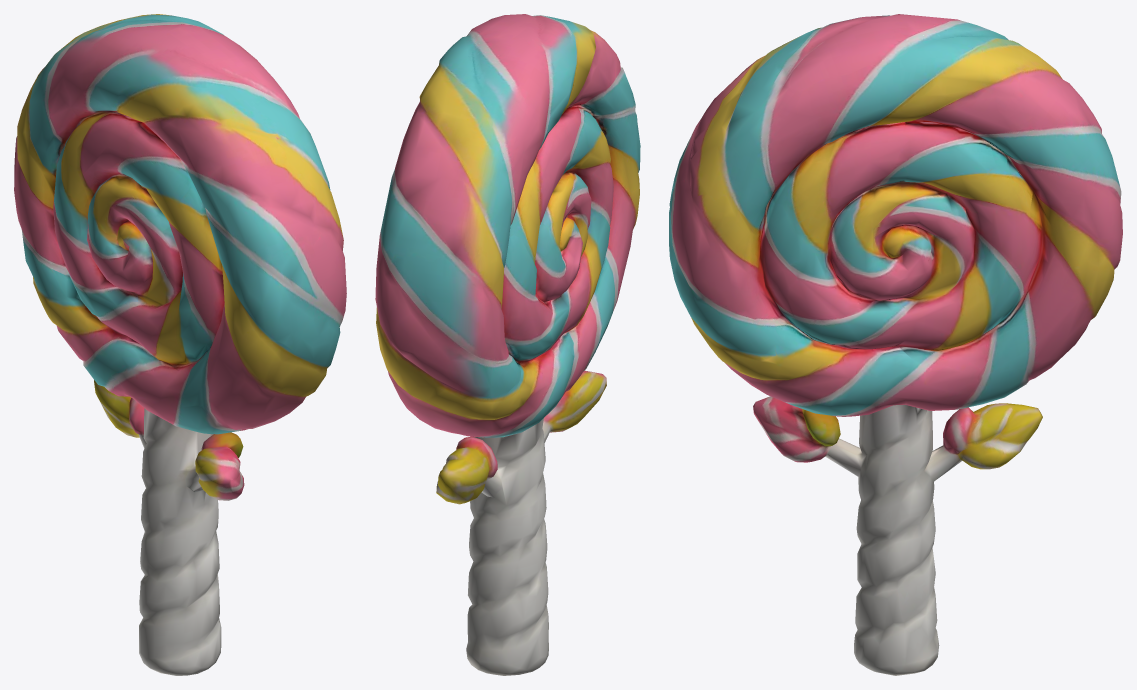
Rendered from deco_lolly.glb.
3 renders of one model, left to right at view 1: azimuth 30°, elevation 25°; view 2: azimuth 150°, elevation 25°; view 3: azimuth 270°, elevation 25°, orthographic.
Visible parts, largest first — view 1: tripo_node_f221a70a-a6c3-42f4-a626-4c5e6b1ae5af; view 2: tripo_node_f221a70a-a6c3-42f4-a626-4c5e6b1ae5af; view 3: tripo_node_f221a70a-a6c3-42f4-a626-4c5e6b1ae5af.
Boxes of the visible parts, x1,y1,x2,y2 form: tripo_node_f221a70a-a6c3-42f4-a626-4c5e6b1ae5af: (14,14,346,675); tripo_node_f221a70a-a6c3-42f4-a626-4c5e6b1ae5af: (375,14,640,675); tripo_node_f221a70a-a6c3-42f4-a626-4c5e6b1ae5af: (669,14,1122,675).
Size of the model in its own units: 0.2483 by 0.9998 by 0.6443.
Materials: 1 (1 with a texture image).
